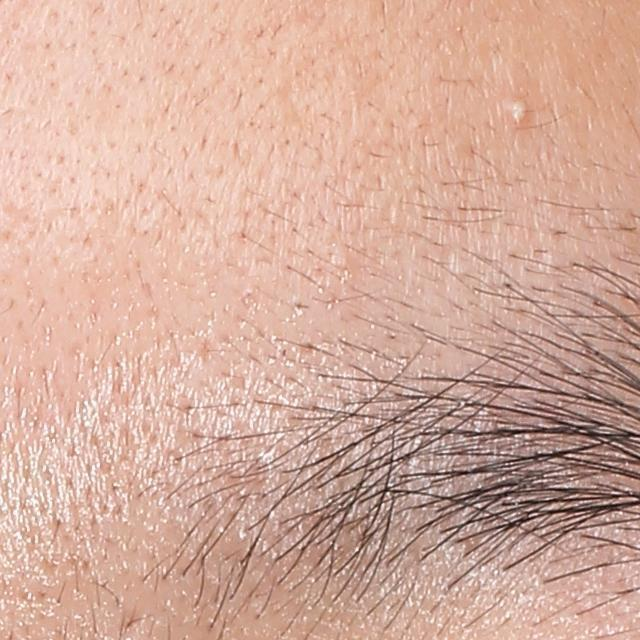pustule: (502, 93, 535, 131)
